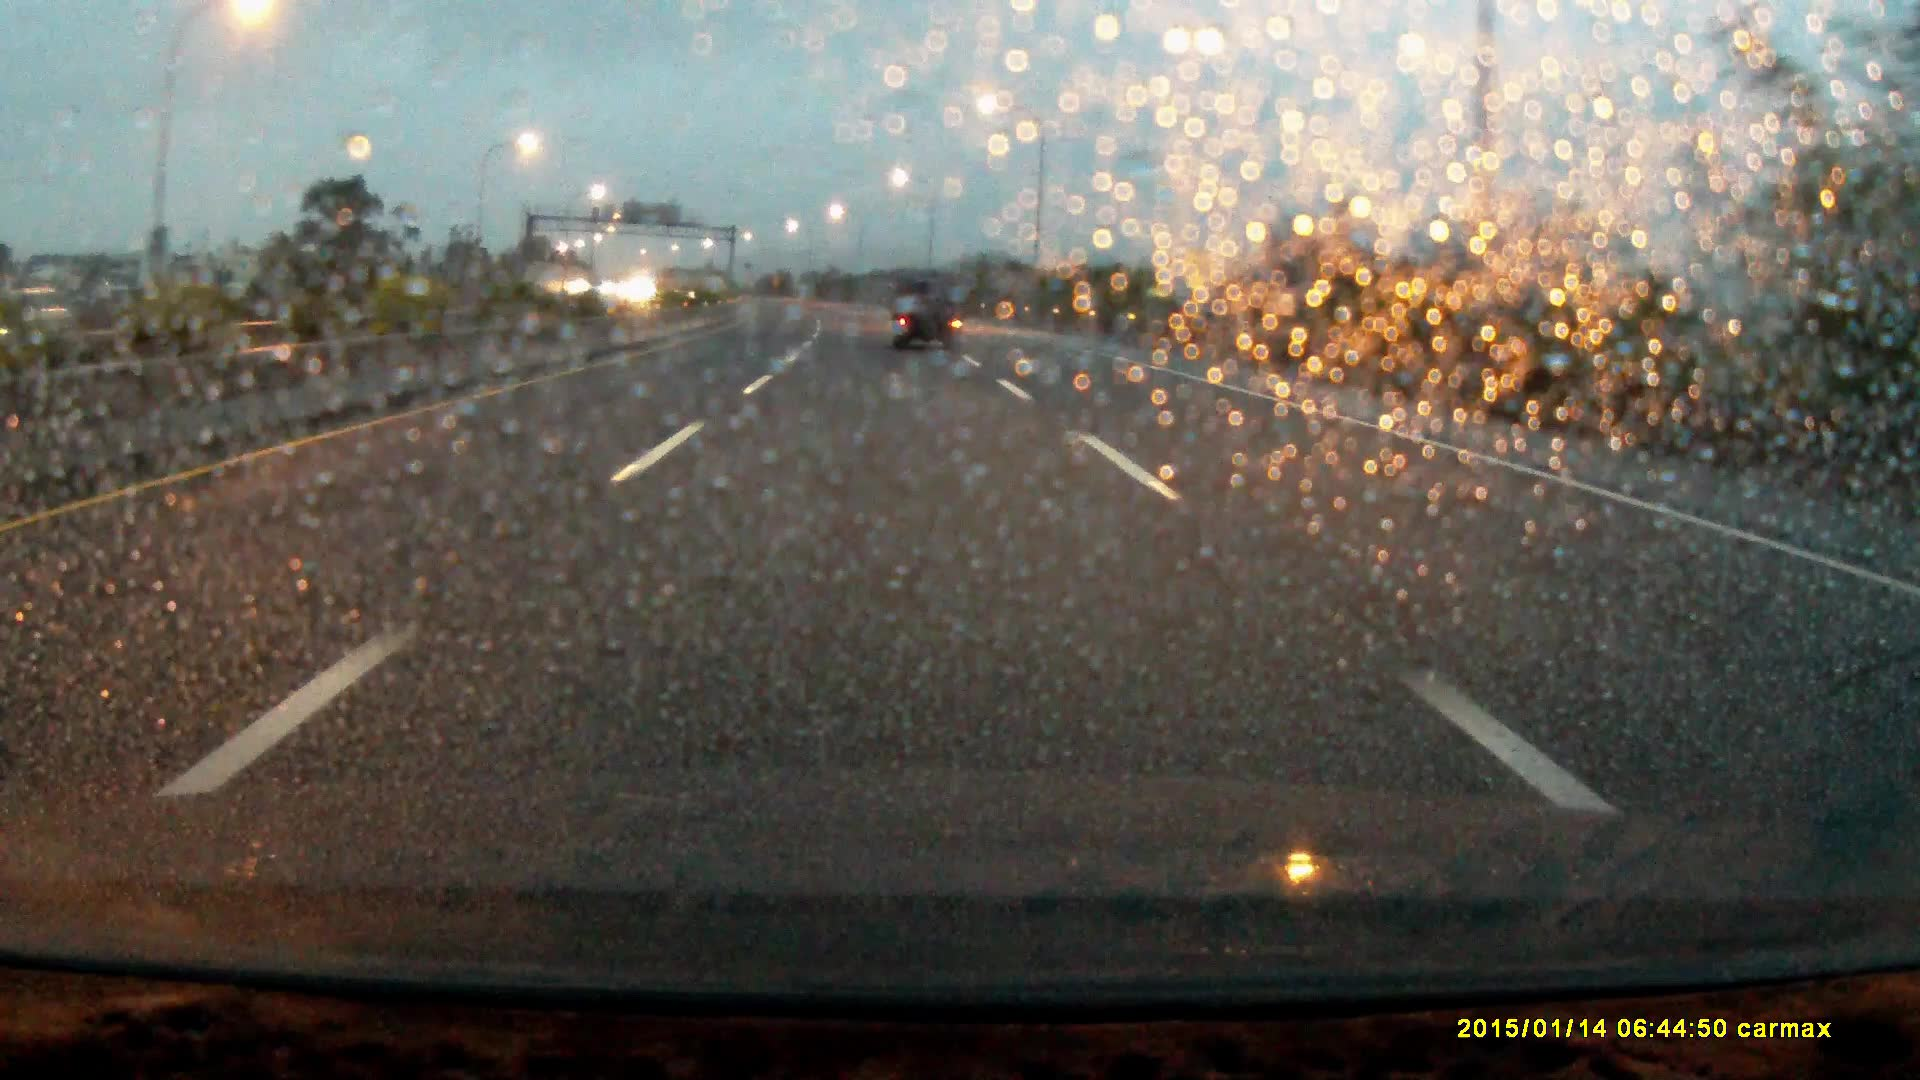vehicle: (891, 270, 965, 353)
